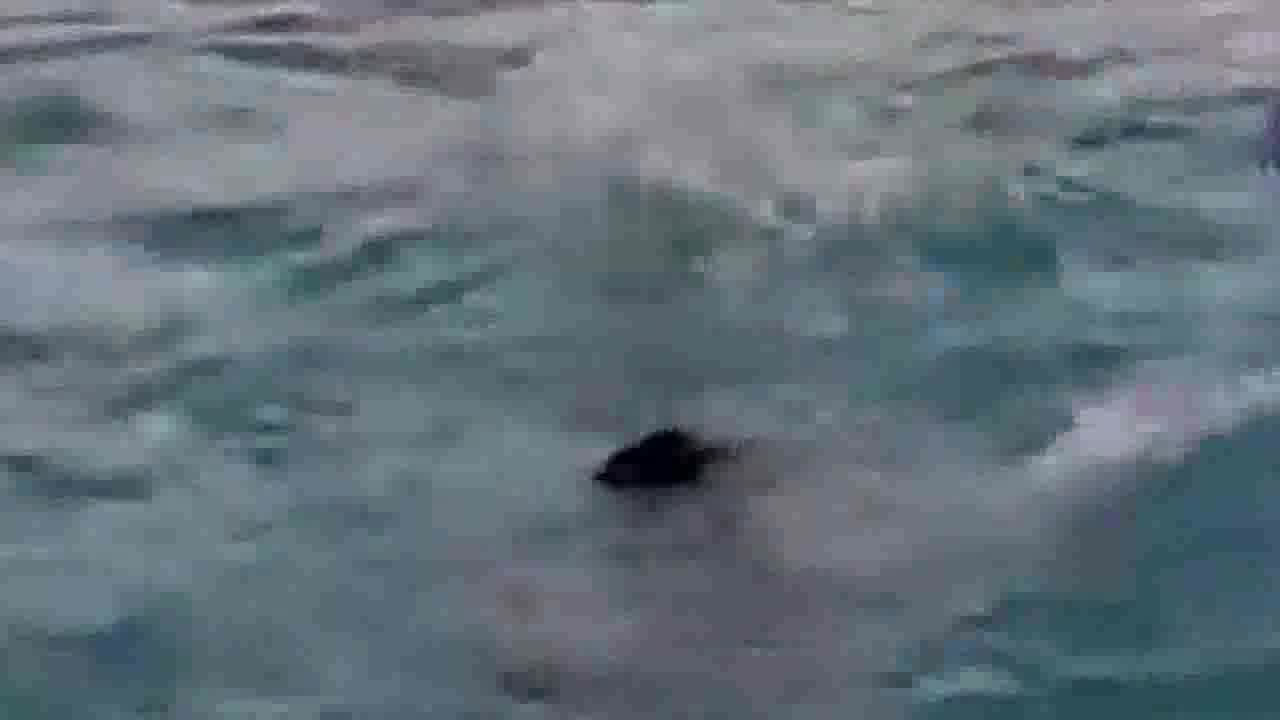Drowning: (600, 423, 1159, 597)
